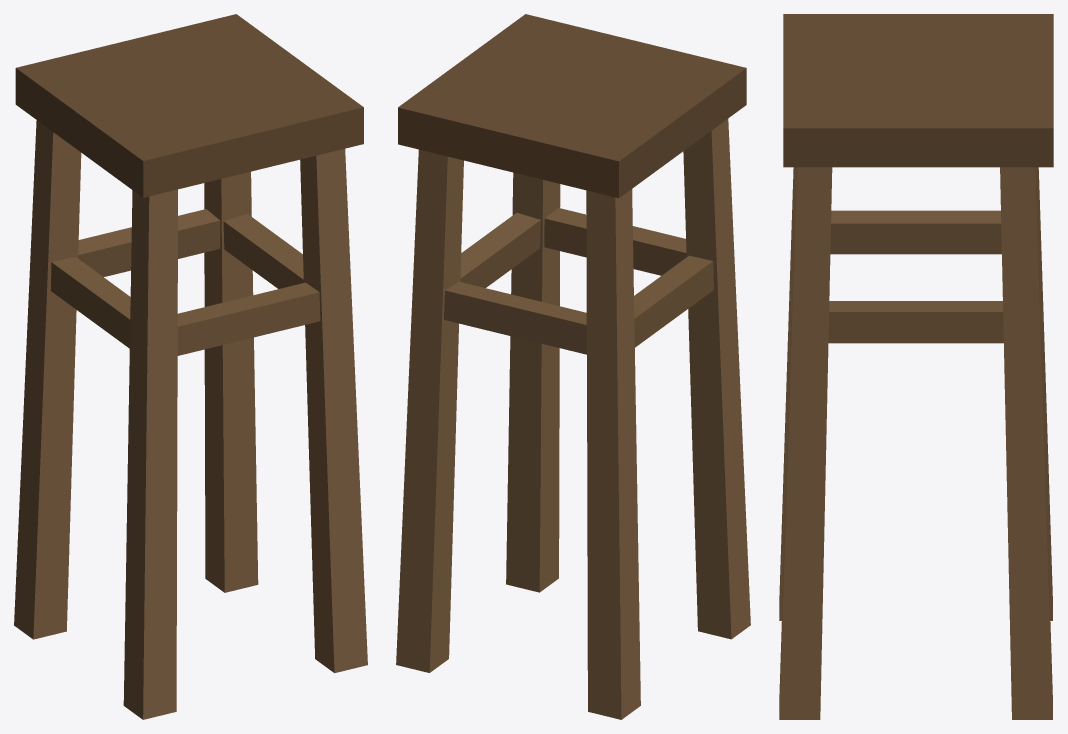
The model's file is Bar_chair_01.fbx.
3 views of the same model, side by side, from view 1: azimuth 30°, elevation 25°; view 2: azimuth 150°, elevation 25°; view 3: azimuth 270°, elevation 25° (orthographic). The views are drawn at different scales.
Visible parts, largest first — view 1: Bar_chair_01; view 2: Bar_chair_01; view 3: Bar_chair_01.
Part boxes in pixels (<box>): Bar_chair_01: <box>14,14,367,719</box>; Bar_chair_01: <box>396,14,750,719</box>; Bar_chair_01: <box>779,14,1053,719</box>.
Bounding box in the file's own units: 40.63 × 96.14 × 40.5.
